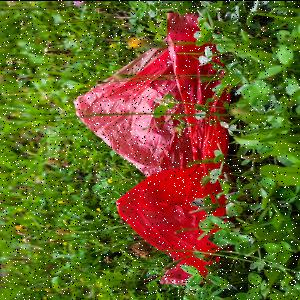Trash: (74, 10, 233, 285)
